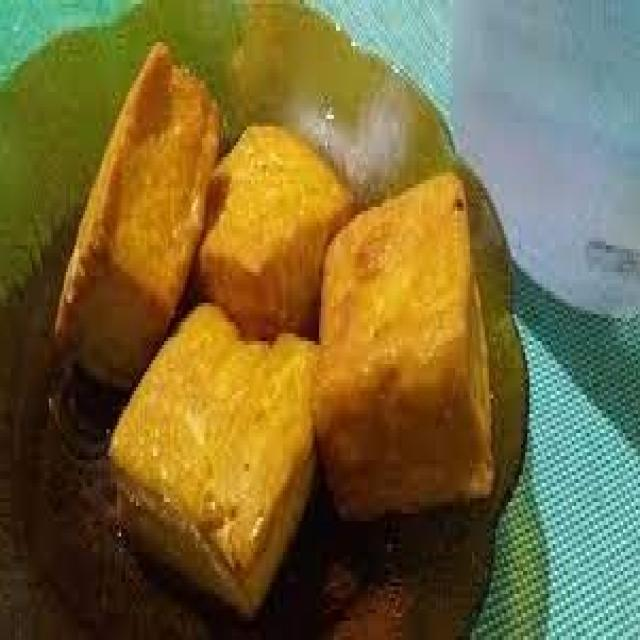tahu goreng: (108, 314, 319, 621), (310, 172, 493, 521), (53, 42, 223, 395), (179, 126, 357, 345)
